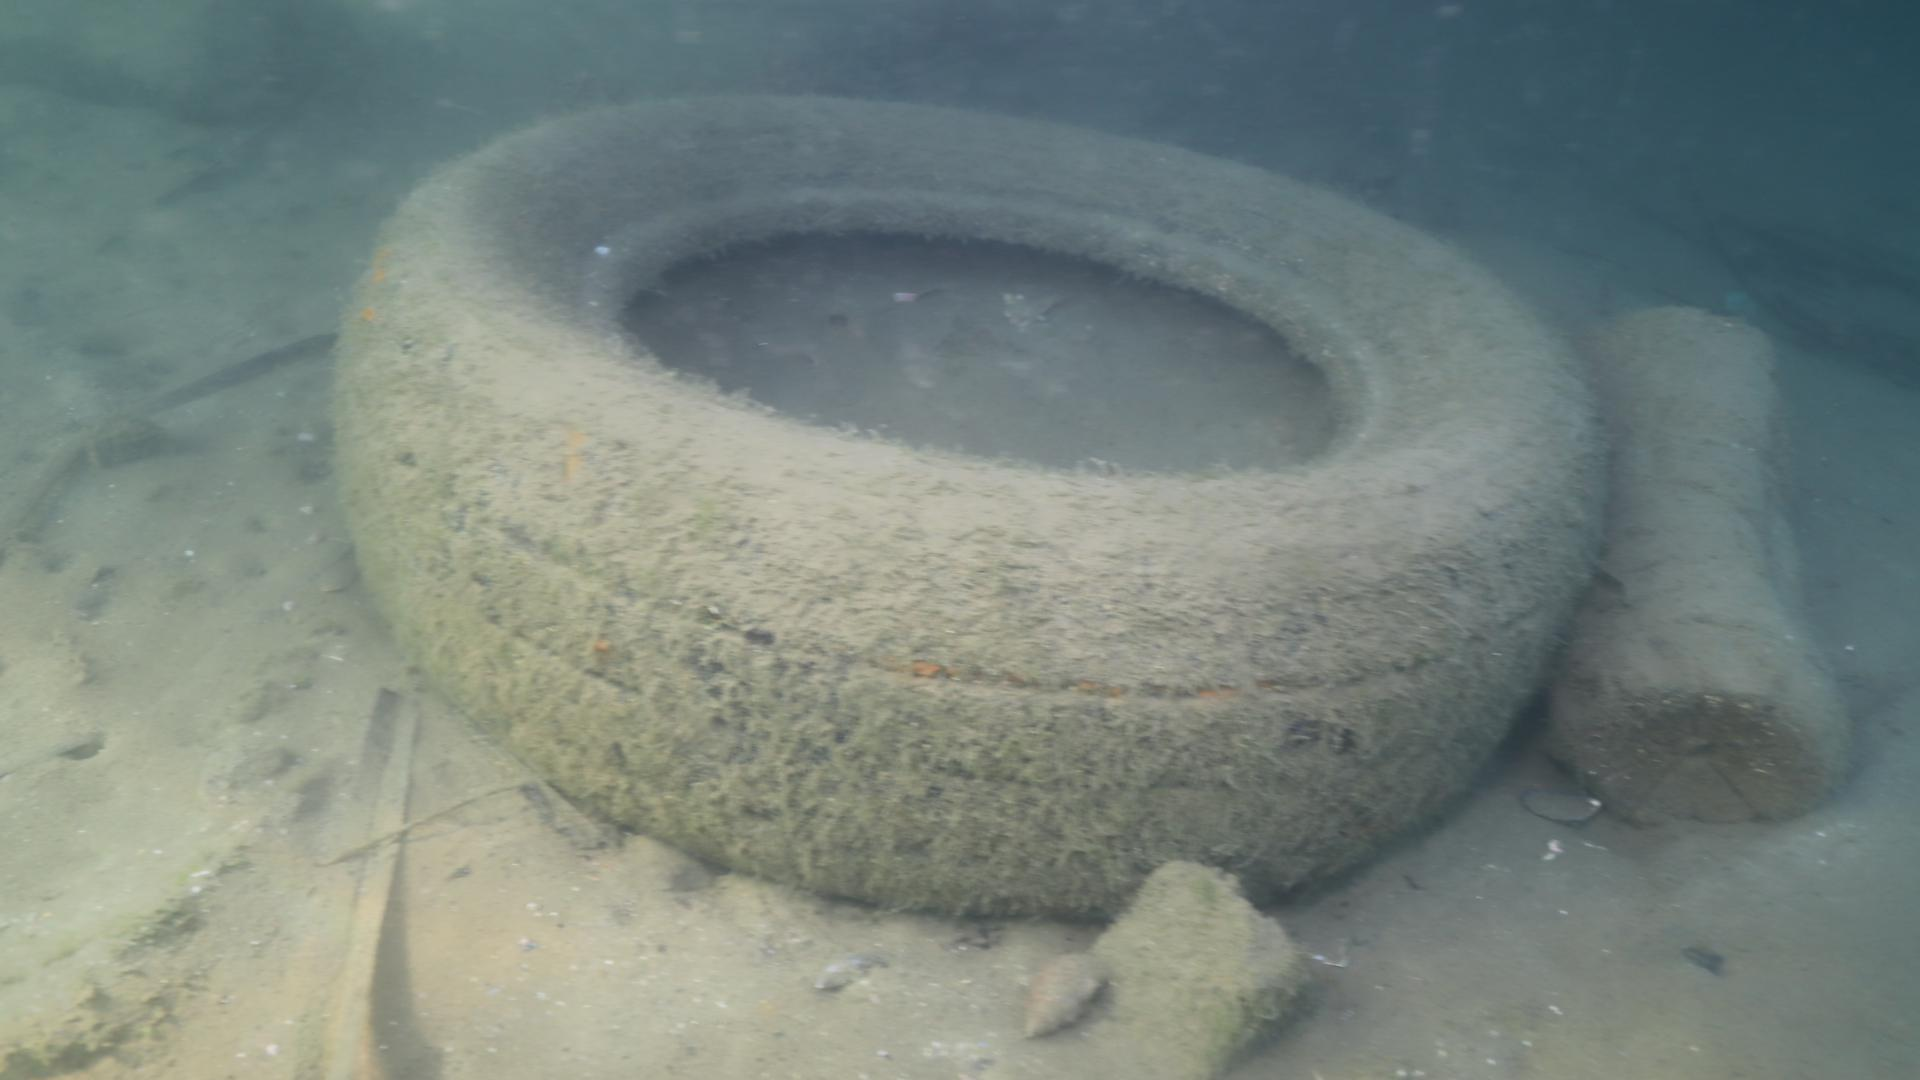tire: (315, 84, 1607, 920)
